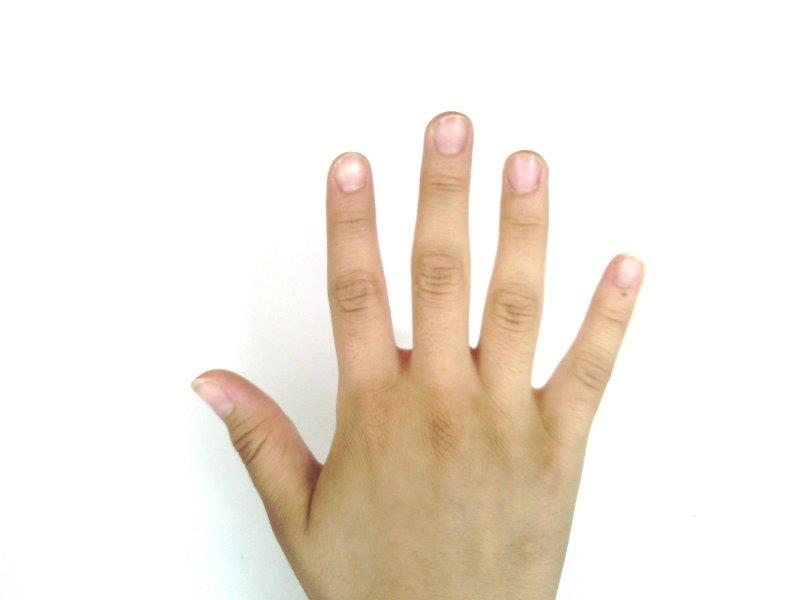hand: (193, 111, 645, 594)
